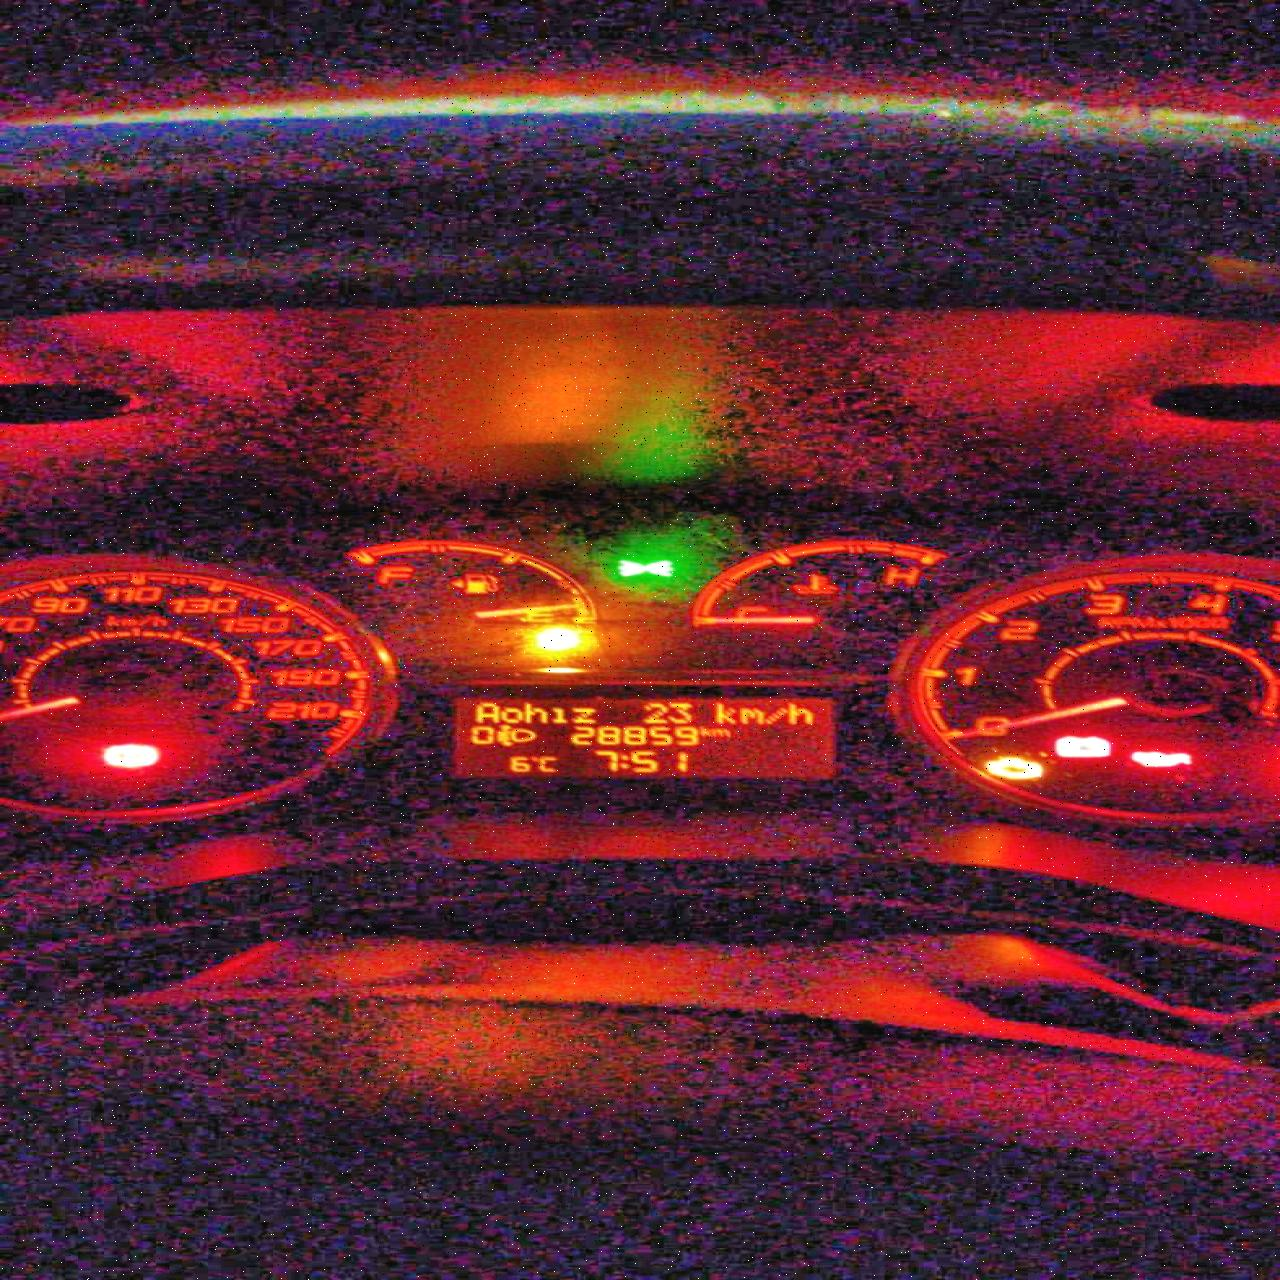0: (469, 724, 495, 744)
1: (673, 749, 693, 772)
2: (642, 701, 667, 724), (570, 726, 594, 744)
3: (668, 700, 692, 726)
5: (629, 749, 658, 772), (647, 726, 670, 747)
6: (508, 754, 526, 772)
7: (592, 748, 618, 772)
8: (595, 723, 620, 745), (621, 723, 642, 744)
9: (672, 724, 697, 747)
X: (468, 699, 498, 724), (788, 701, 815, 726), (523, 700, 550, 724), (570, 704, 599, 724), (713, 701, 737, 723), (538, 754, 565, 771), (550, 704, 570, 726), (763, 707, 785, 724), (737, 706, 761, 722), (499, 707, 522, 723), (696, 724, 714, 737), (618, 753, 629, 770), (713, 727, 730, 737)
odometer: (449, 693, 844, 779)
